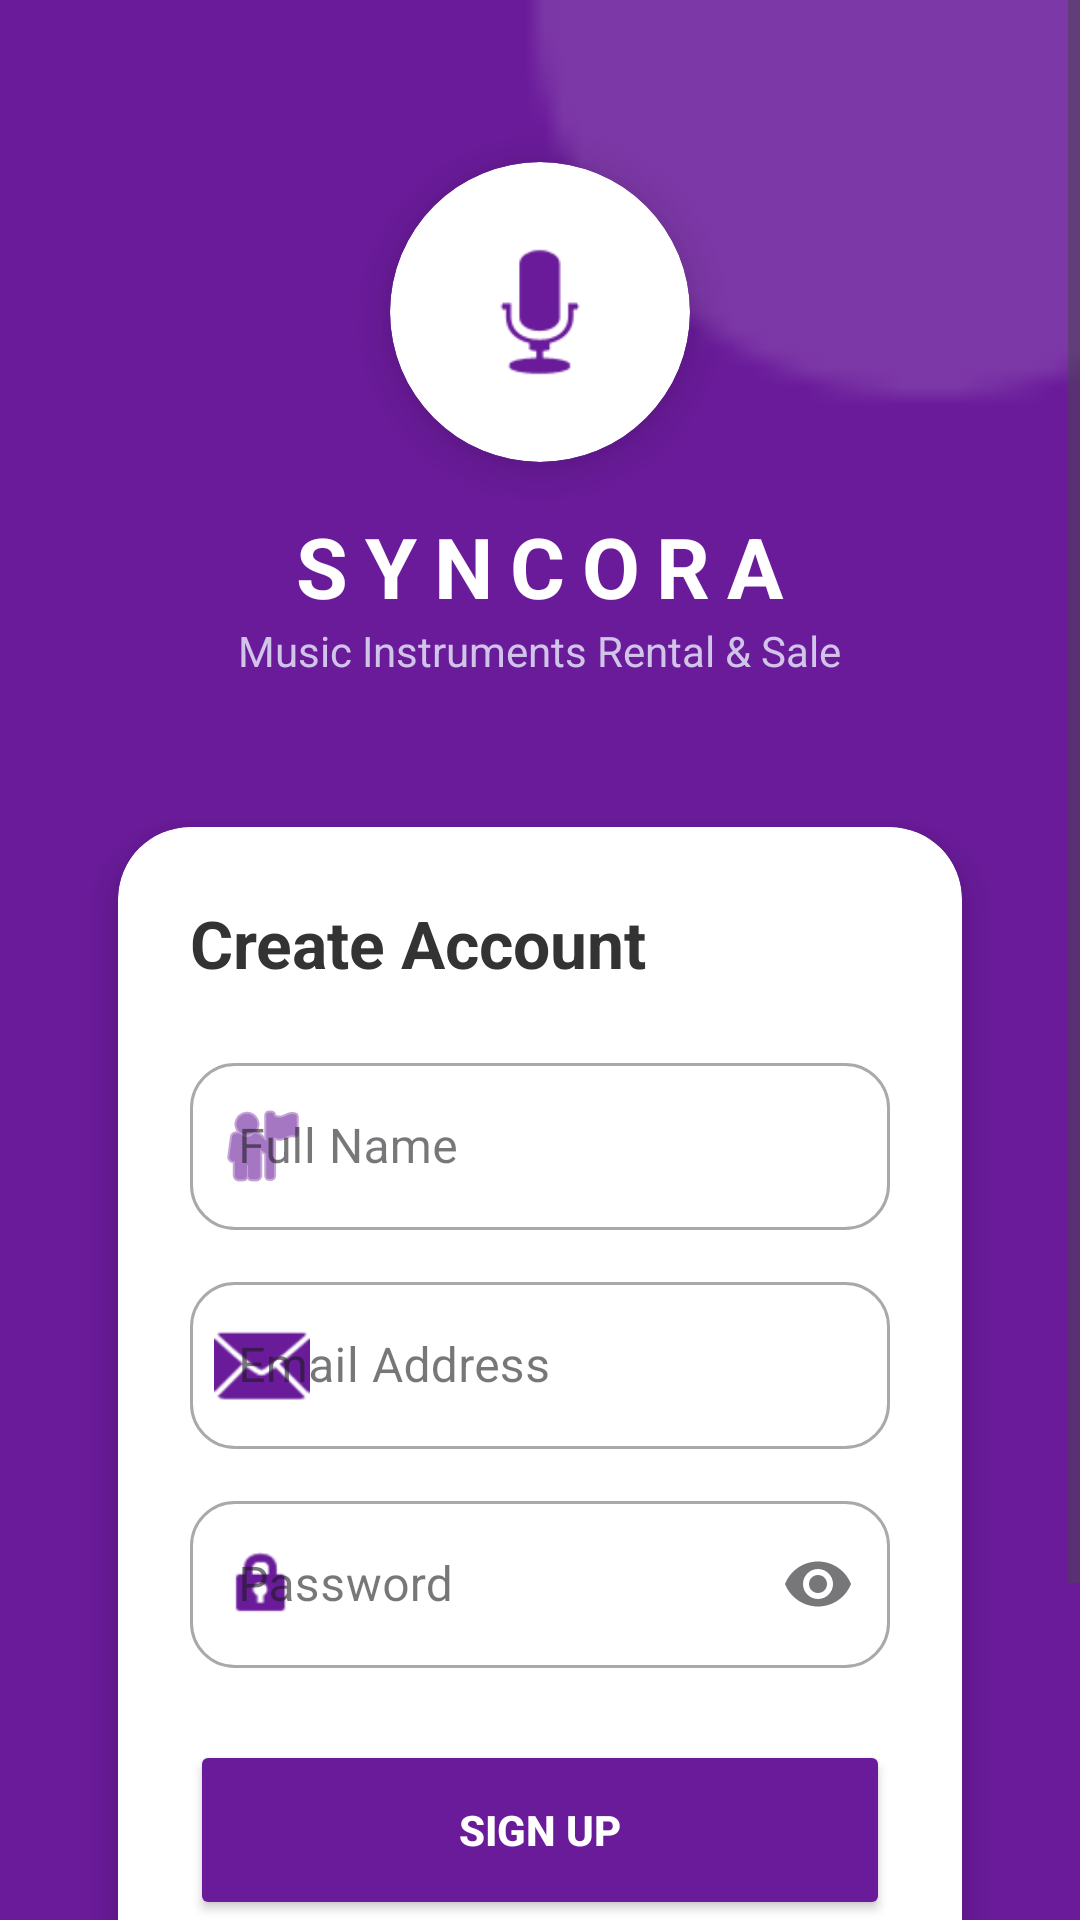

Locate icon controls on the screen. Image size 1080x1920, boxes as (x1, y1, x2, y2).
speak now: (390, 162, 690, 462)
